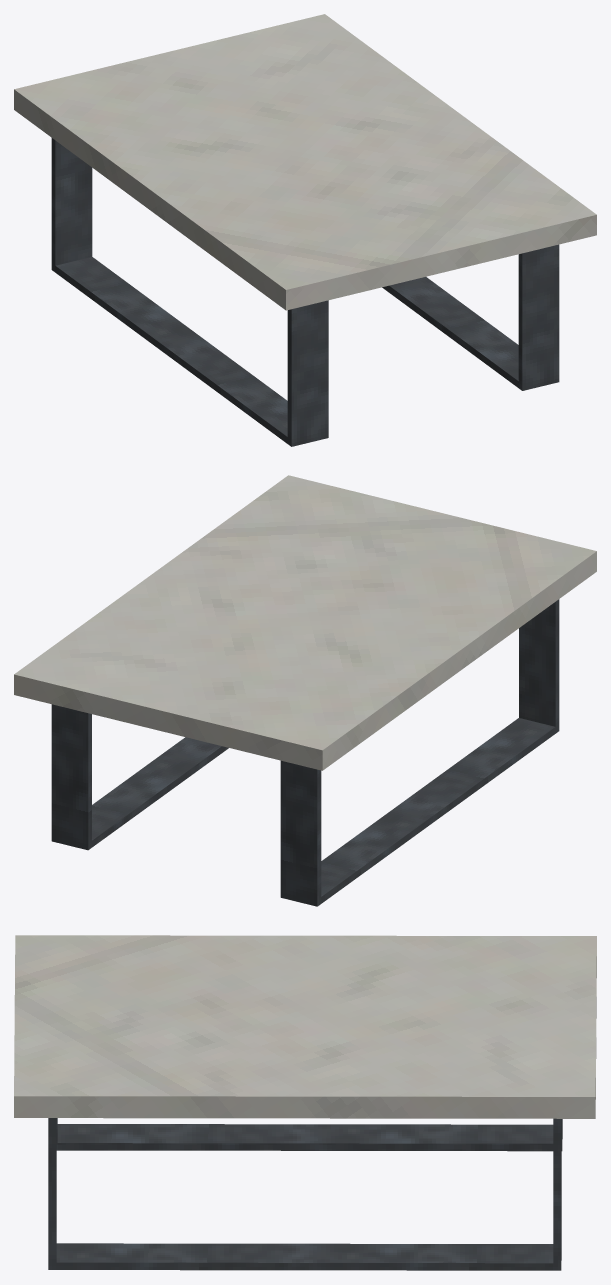
File: modern_table.glb
3 views of the same model, one above another, from view 1: azimuth 30°, elevation 25°; view 2: azimuth 150°, elevation 25°; view 3: azimuth 270°, elevation 25° (orthographic). The views are drawn at different scales.
Parts seen in each view (by area): view 1: ModernTable; view 2: ModernTable; view 3: ModernTable.
Boxes of the visible parts, x1,y1,x2,y2 form: ModernTable: [14, 14, 596, 446]; ModernTable: [14, 475, 596, 906]; ModernTable: [14, 935, 596, 1270].
Size of the model in its own units: 0.6584 by 0.3509 by 1.
2 materials, 2 textured.
